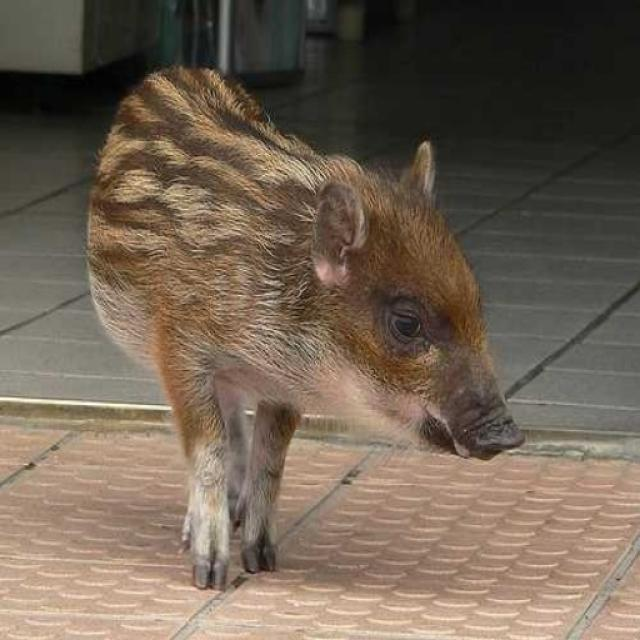pig: (33, 48, 534, 577)
